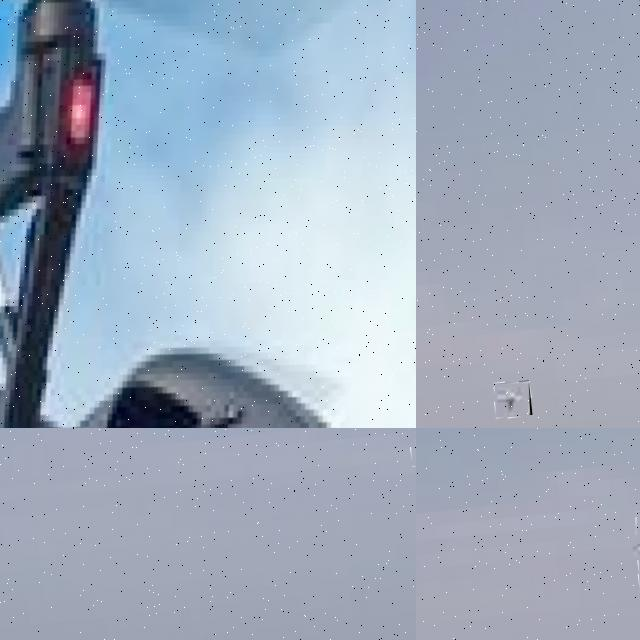drone: (0, 0, 416, 428), (492, 379, 532, 418), (406, 428, 416, 465)
